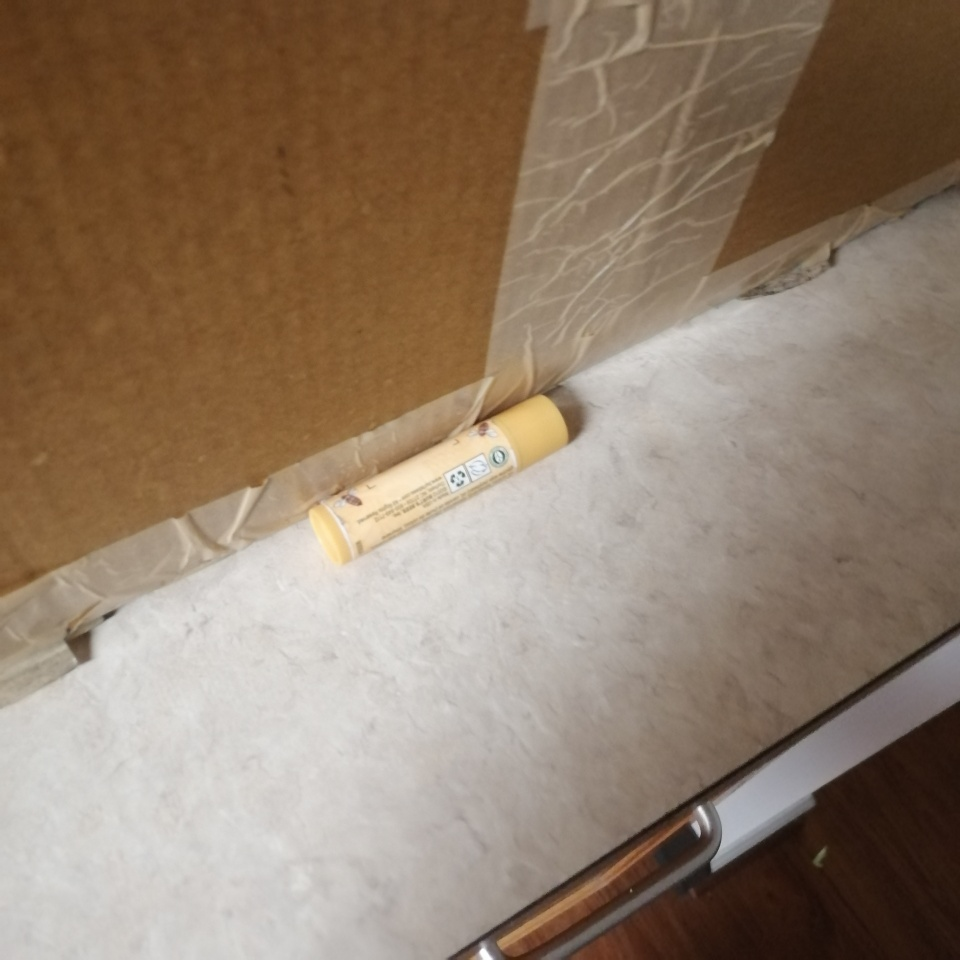chapstick: (306, 389, 573, 567)
